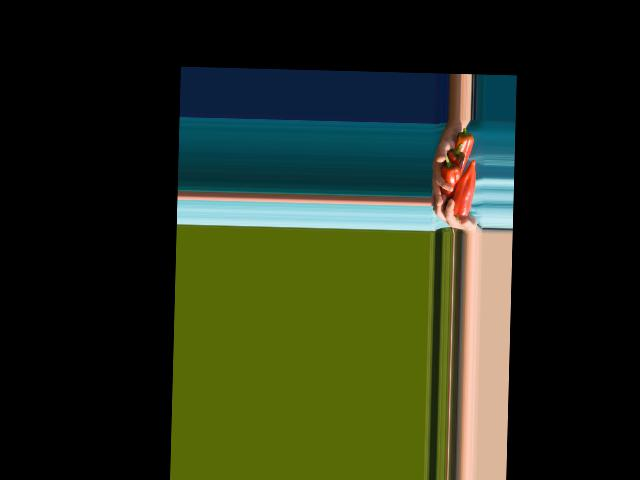bell_pepper: (452, 127, 473, 165)
